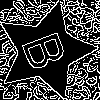B: (21, 26, 77, 74)
